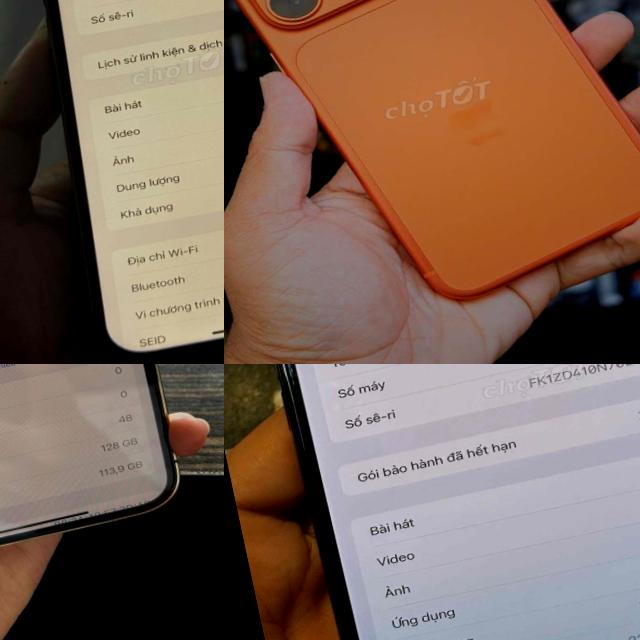gen_11: (276, 364, 640, 640)
gen_12_13: (0, 364, 200, 577)
gen_14: (0, 0, 224, 364)
gen_17: (224, 0, 640, 336)
